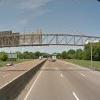Bridge: (2, 21, 92, 54)
